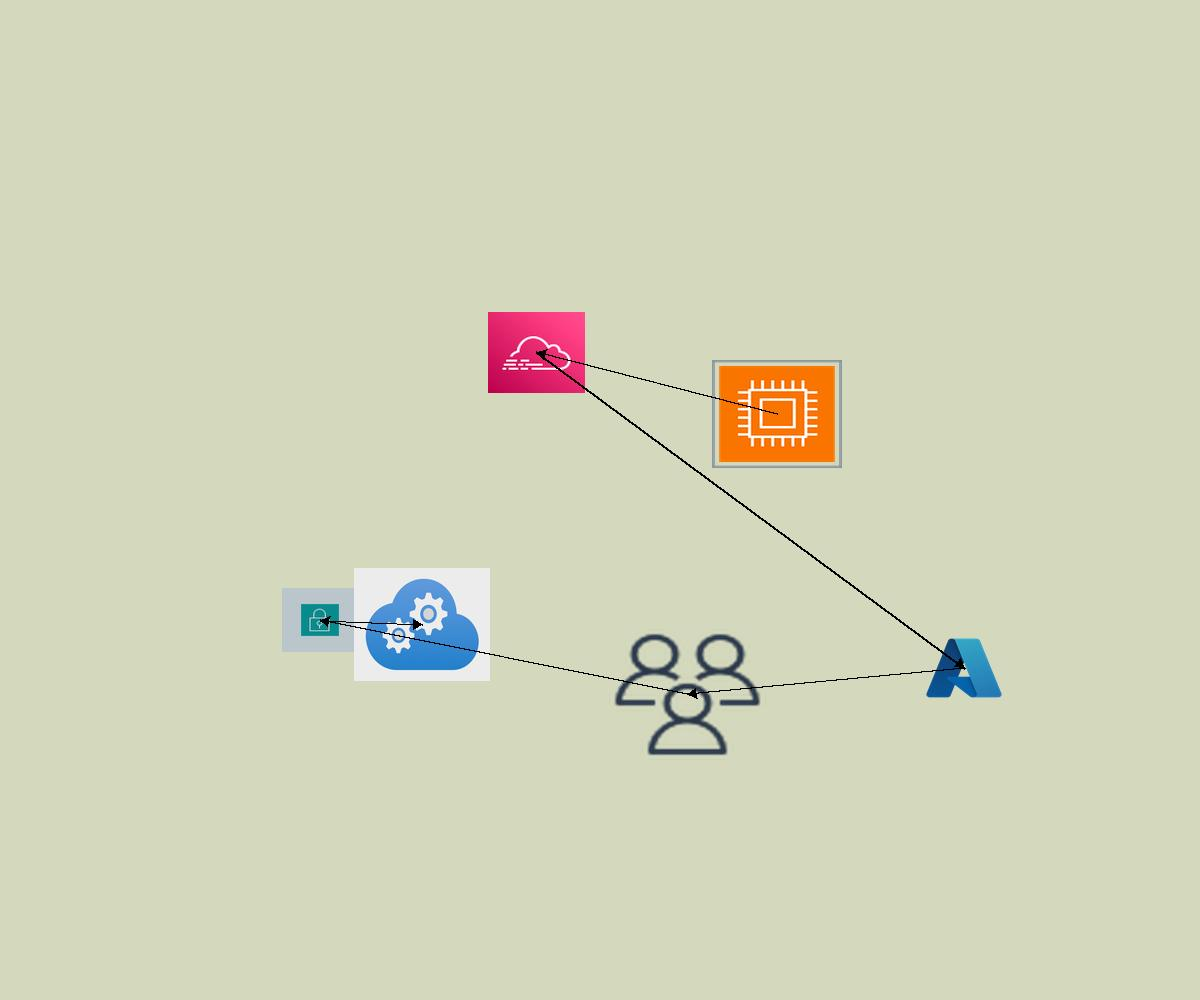AWS-Category_Compute: (712, 360, 842, 468)
AWS-CloudTrail: (488, 312, 585, 393)
AWS-Private-subnet: (282, 588, 358, 652)
AWS-Res_Users: (609, 629, 766, 760)
Azure_cloud_services: (354, 568, 490, 681)
Azure_services: (923, 634, 1005, 702)
